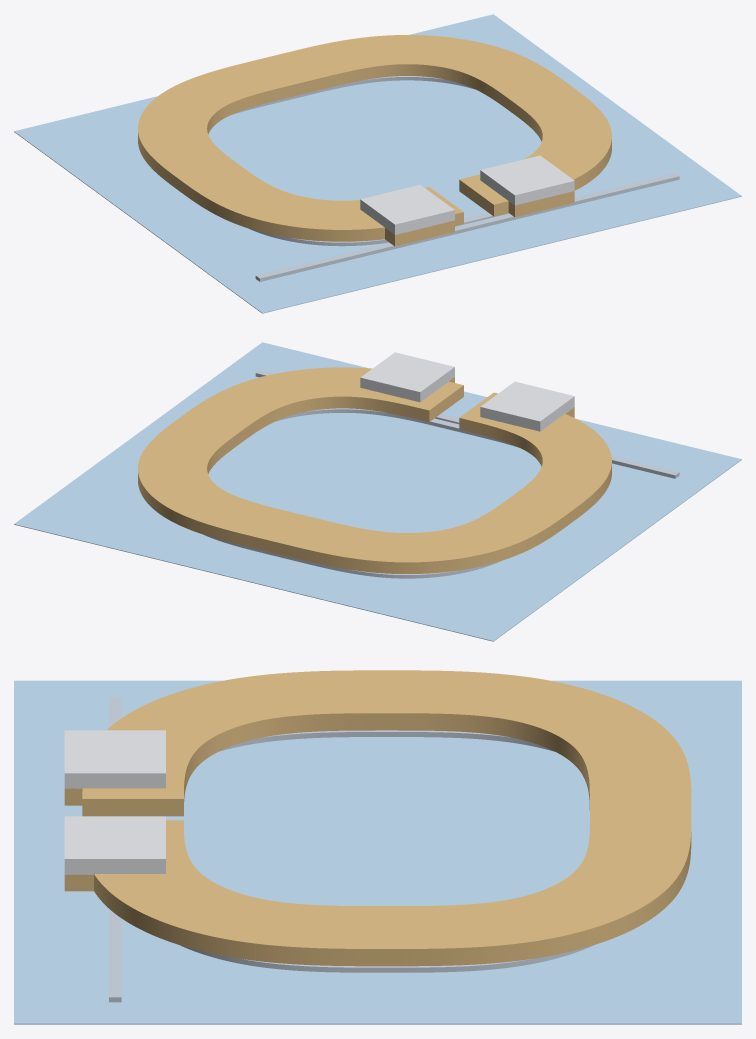
The model's file is siepic-ring-heater.glb.
3 views of the same model, one above another, from view 1: azimuth 30°, elevation 25°; view 2: azimuth 150°, elevation 25°; view 3: azimuth 270°, elevation 25° (orthographic). The views are drawn at different scales.
Parts seen in each view (by area): view 1: box_top, heater_0, metal2_0, metal2_1, core_0, core_1; view 2: box_top, heater_0, metal2_0, metal2_1, core_1, core_0; view 3: box_top, heater_0, metal2_0, metal2_1, core_1, core_0.
Part boxes in pixels (x1,y1,x2,y2): box_top: (14,14,741,313); heater_0: (138,35,611,246); metal2_0: (360,185,454,235); metal2_1: (480,155,574,205); core_0: (255,173,679,281); core_1: (230,76,508,246); box_top: (14,342,741,641); heater_0: (138,367,611,573); metal2_0: (480,381,574,431); metal2_1: (360,352,454,402); core_1: (204,408,518,578); core_0: (255,370,679,478); box_top: (14,680,741,1024); heater_0: (64,670,691,966); metal2_0: (64,730,165,789); metal2_1: (64,816,165,874); core_1: (180,730,592,972); core_0: (109,697,121,1002).
Bounding box in the file's own units: 32 × 2.54 × 28.71.
